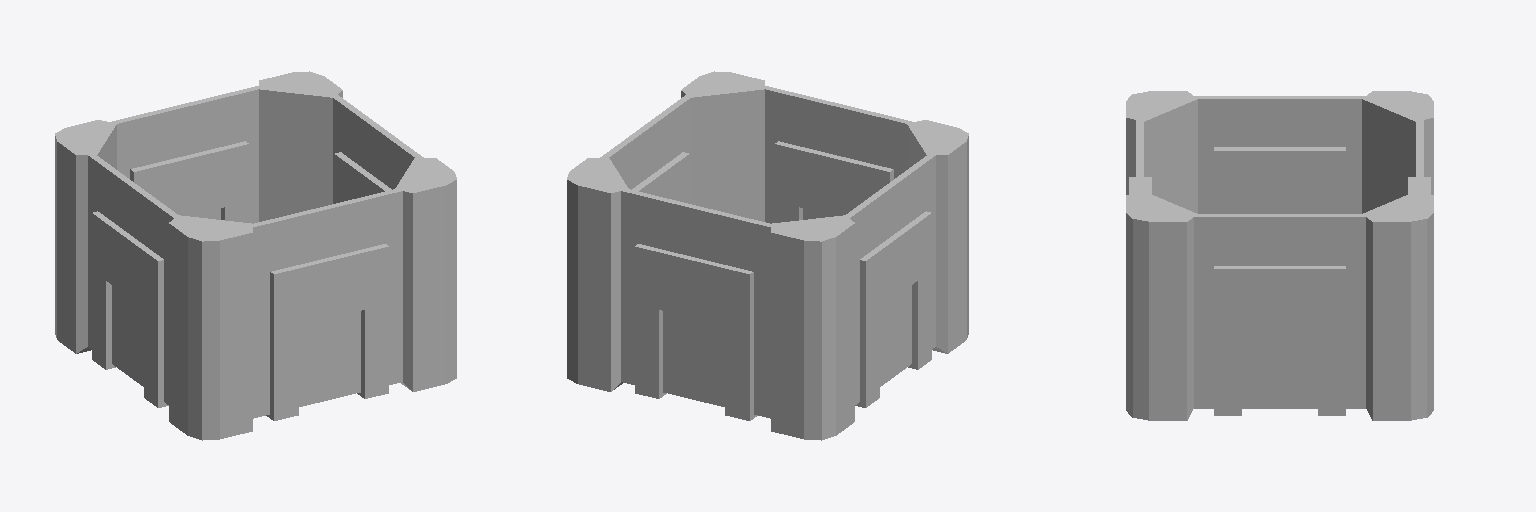
File: Lootbox_Base_Cube.obj
The picture shows the model from 3 angles: view 1: azimuth 30°, elevation 25°; view 2: azimuth 150°, elevation 25°; view 3: azimuth 270°, elevation 25°; orthographic projection.
Parts seen in each view (by area): view 1: Lootbox_Base_Cube.001; view 2: Lootbox_Base_Cube.001; view 3: Lootbox_Base_Cube.001.
Boxes of the visible parts, x1=… form: Lootbox_Base_Cube.001: x1=55, y1=71, x2=456, y2=440; Lootbox_Base_Cube.001: x1=567, y1=71, x2=968, y2=440; Lootbox_Base_Cube.001: x1=1126, y1=91, x2=1433, y2=420.
Size of the model in its own units: 0.5642 by 0.4016 by 0.5642.